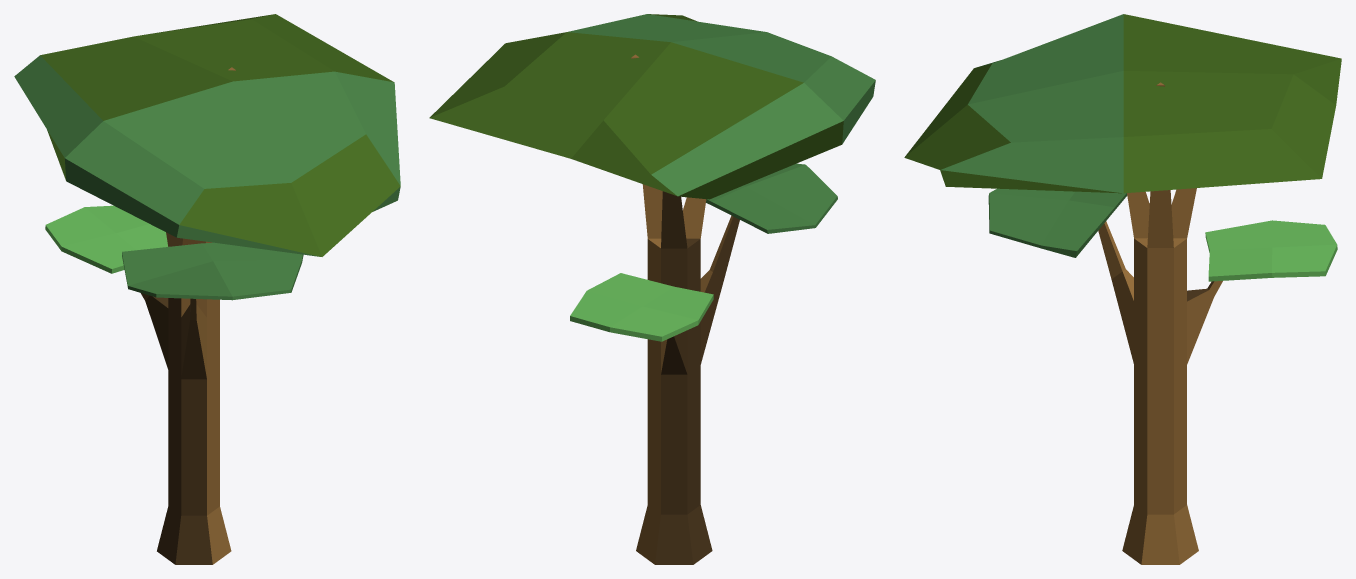
File: Pine_Tree_type_2.fbx
3 renders of one model, left to right at view 1: azimuth 30°, elevation 25°; view 2: azimuth 150°, elevation 25°; view 3: azimuth 270°, elevation 25°, orthographic. The views are drawn at different scales.
Visible parts, largest first — view 1: Pine_tree_Log; view 2: Pine_tree_Log; view 3: Pine_tree_Log.
Part boxes in pixels (x1,y1,x2,y2): Pine_tree_Log: (14, 14, 400, 564); Pine_tree_Log: (429, 14, 875, 564); Pine_tree_Log: (904, 14, 1341, 564).
Bounding box in the file's own units: 736 × 1019 × 824.
